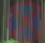No Stopping: (5, 0, 44, 41)
